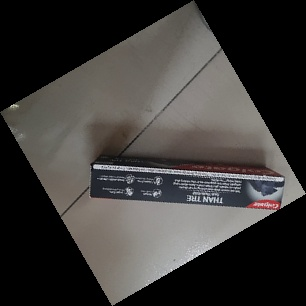Colgate Than: (89, 150, 286, 216)
